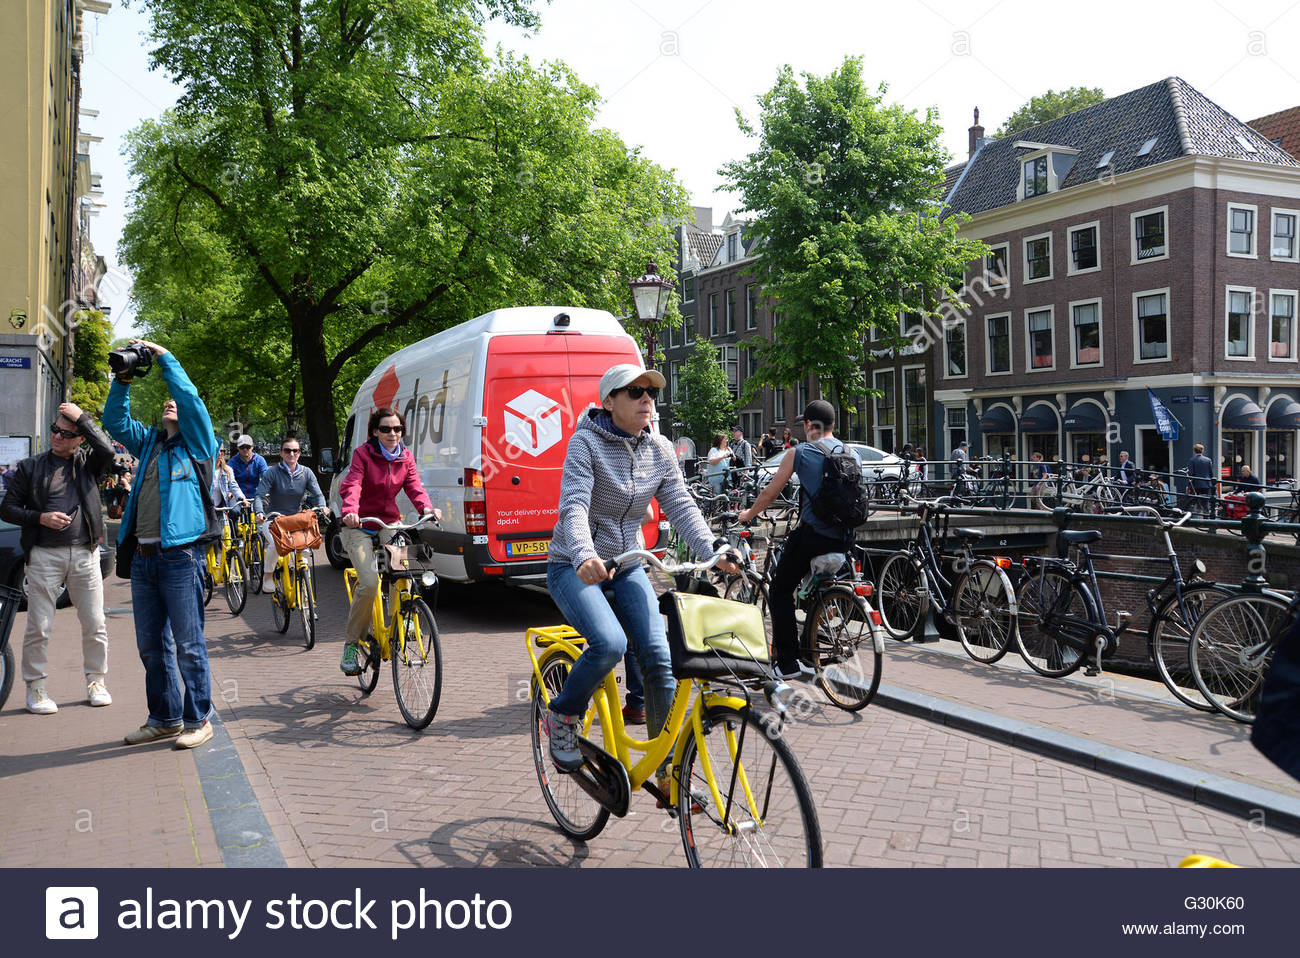commuter: (524, 366, 826, 867), (720, 406, 891, 716), (329, 413, 456, 737), (266, 437, 323, 649)
